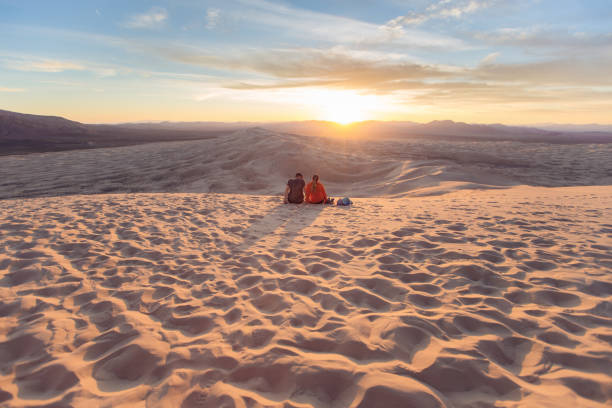human_foot_print: (261, 244, 601, 390), (4, 211, 231, 392)
